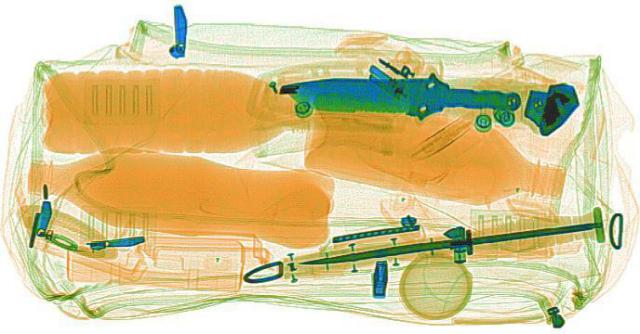Knife: (287, 207, 617, 280), (275, 64, 523, 123)
